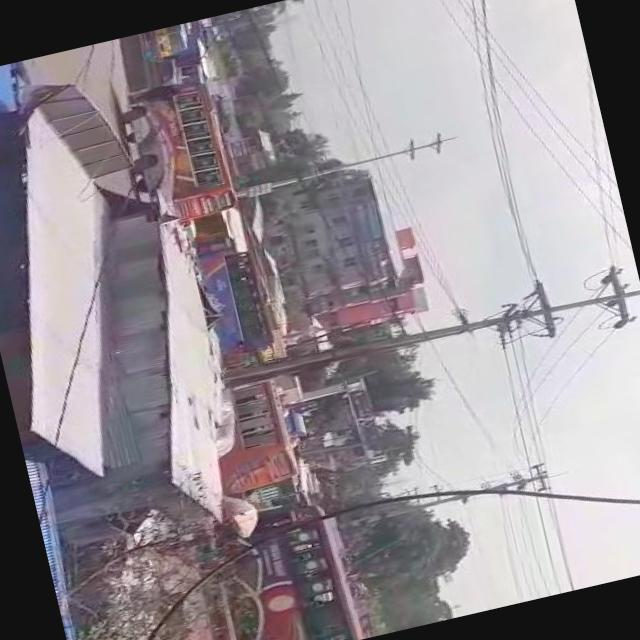bus: (223, 491, 365, 640), (114, 80, 240, 228), (178, 244, 290, 376), (200, 378, 300, 496)
